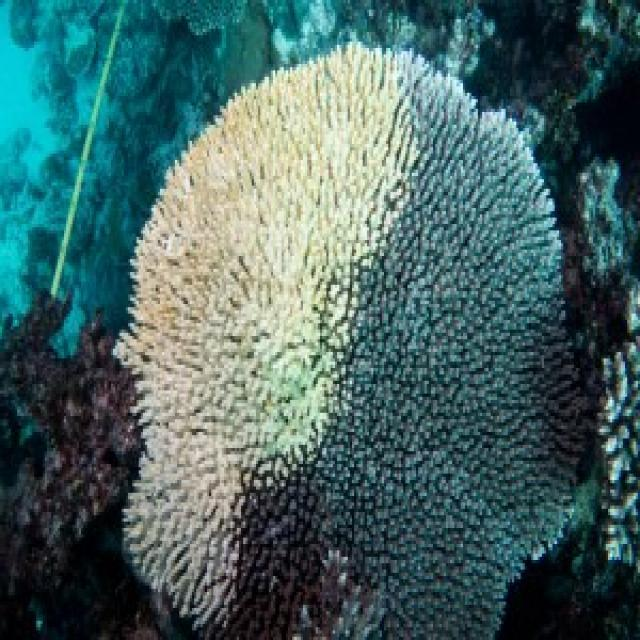Bleached: (108, 48, 408, 627)
Healthy: (242, 57, 594, 640)
